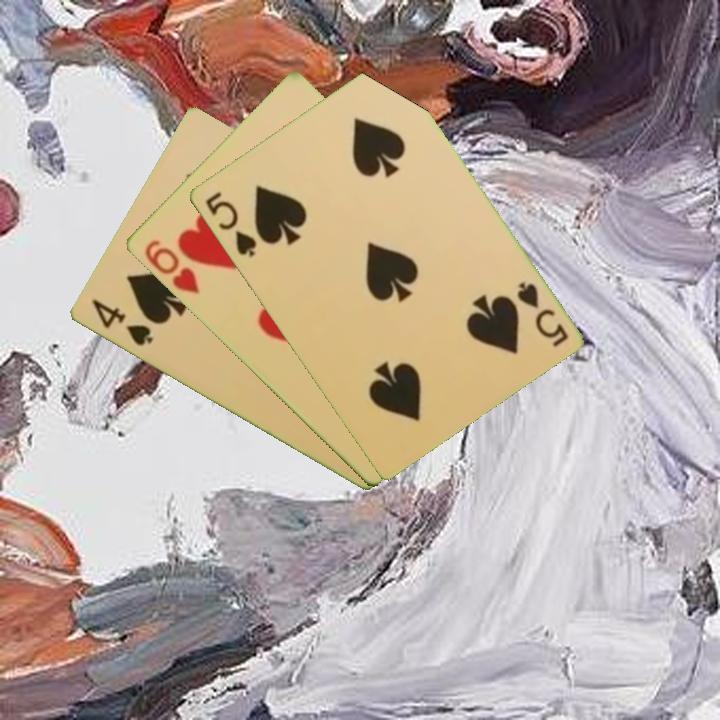4s: (88, 296, 156, 350)
5s: (512, 278, 571, 350), (201, 188, 259, 260)
6h: (140, 236, 203, 298)
